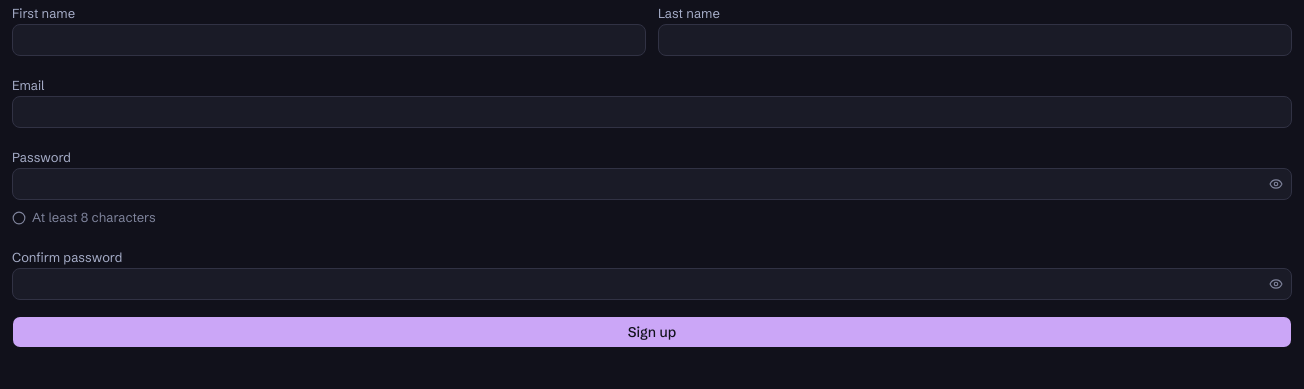
Test: SignupForm › blocks submit on a password mismatch even when name/email are all valid
Type "Ada" into the field labelled "First name".
click(329, 40); type("Ada")  # box [12,24,646,56]
Type "Lovelace" into the field labelled "Last name".
click(975, 40); type("Lovelace")  # box [658,24,1292,56]
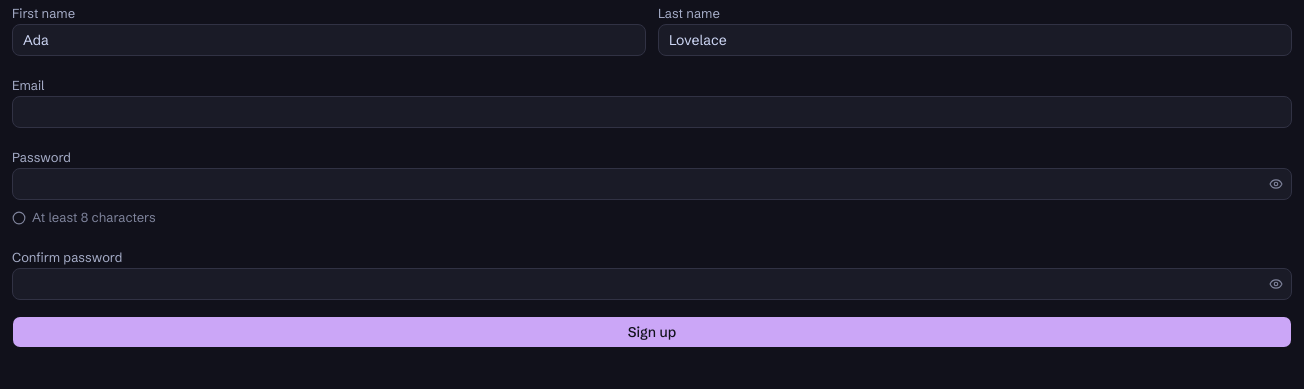
Type "new@example.com" into the field labelled "Email".
click(652, 112); type("new@example.com")  # box [12,96,1292,128]
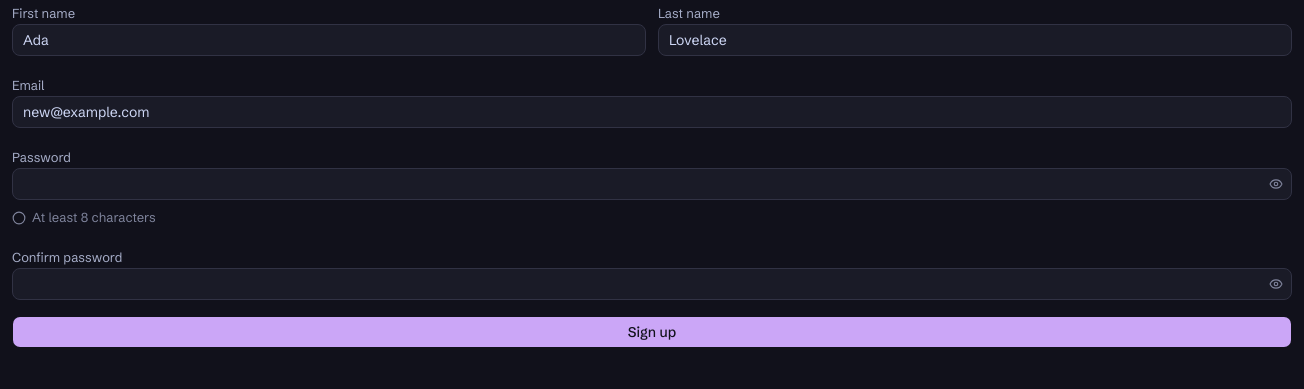
Type "correct horse" into the password field labelled "Password".
click(638, 184); type("correct horse")  # box [13,168,1264,200]
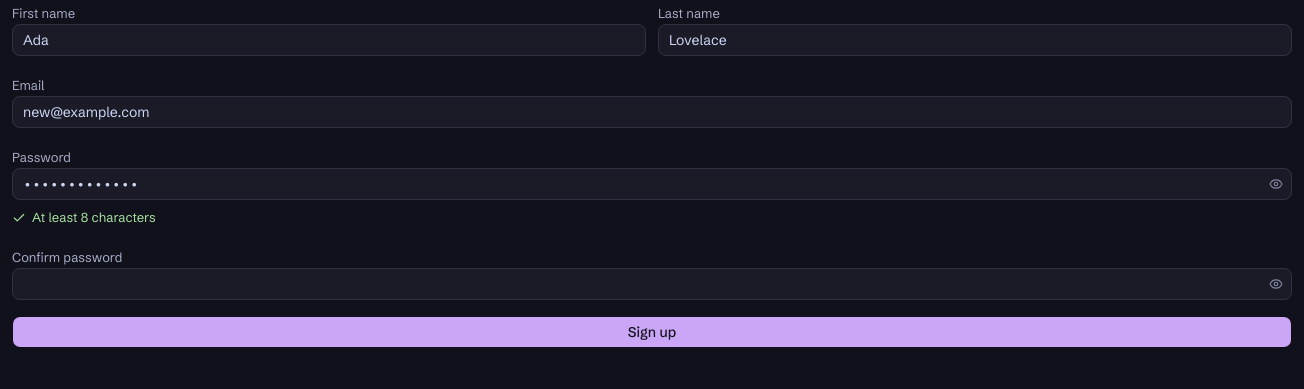
Type "correct horse" into the password field labelled "Confirm password".
click(638, 284); type("correct horse")  # box [13,268,1264,300]
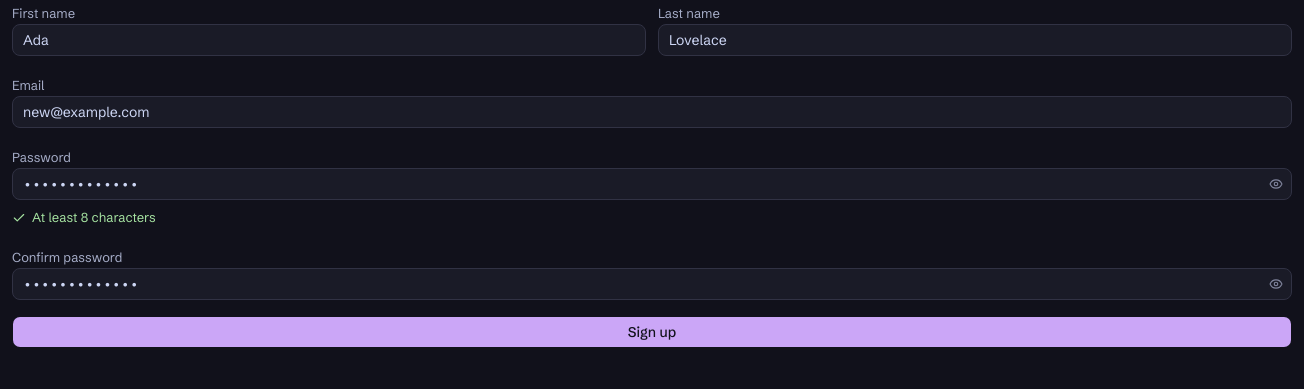
Type "a different password" into the password field labelled "Confirm password".
click(638, 284); type("a different password")  # box [13,268,1264,300]
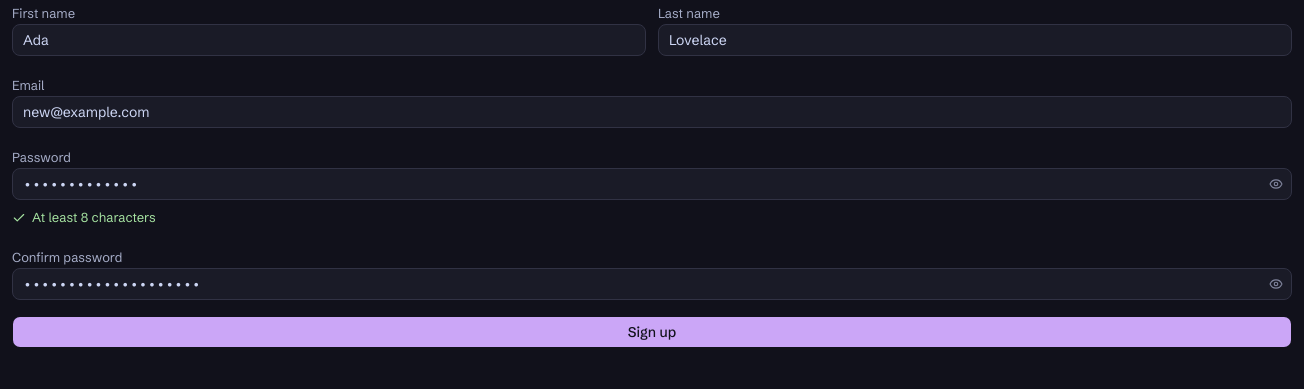
Click the button "Sign up".
click(652, 332)  # box [12,316,1292,348]
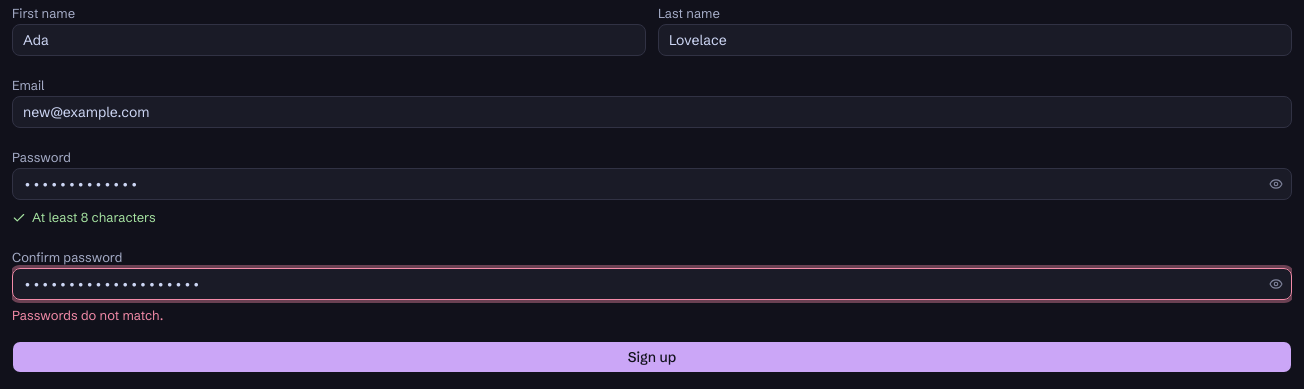
Now the text "Passwords do not match." is shown, box [12,306,163,322]
